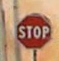stop: (16, 12, 51, 48)
